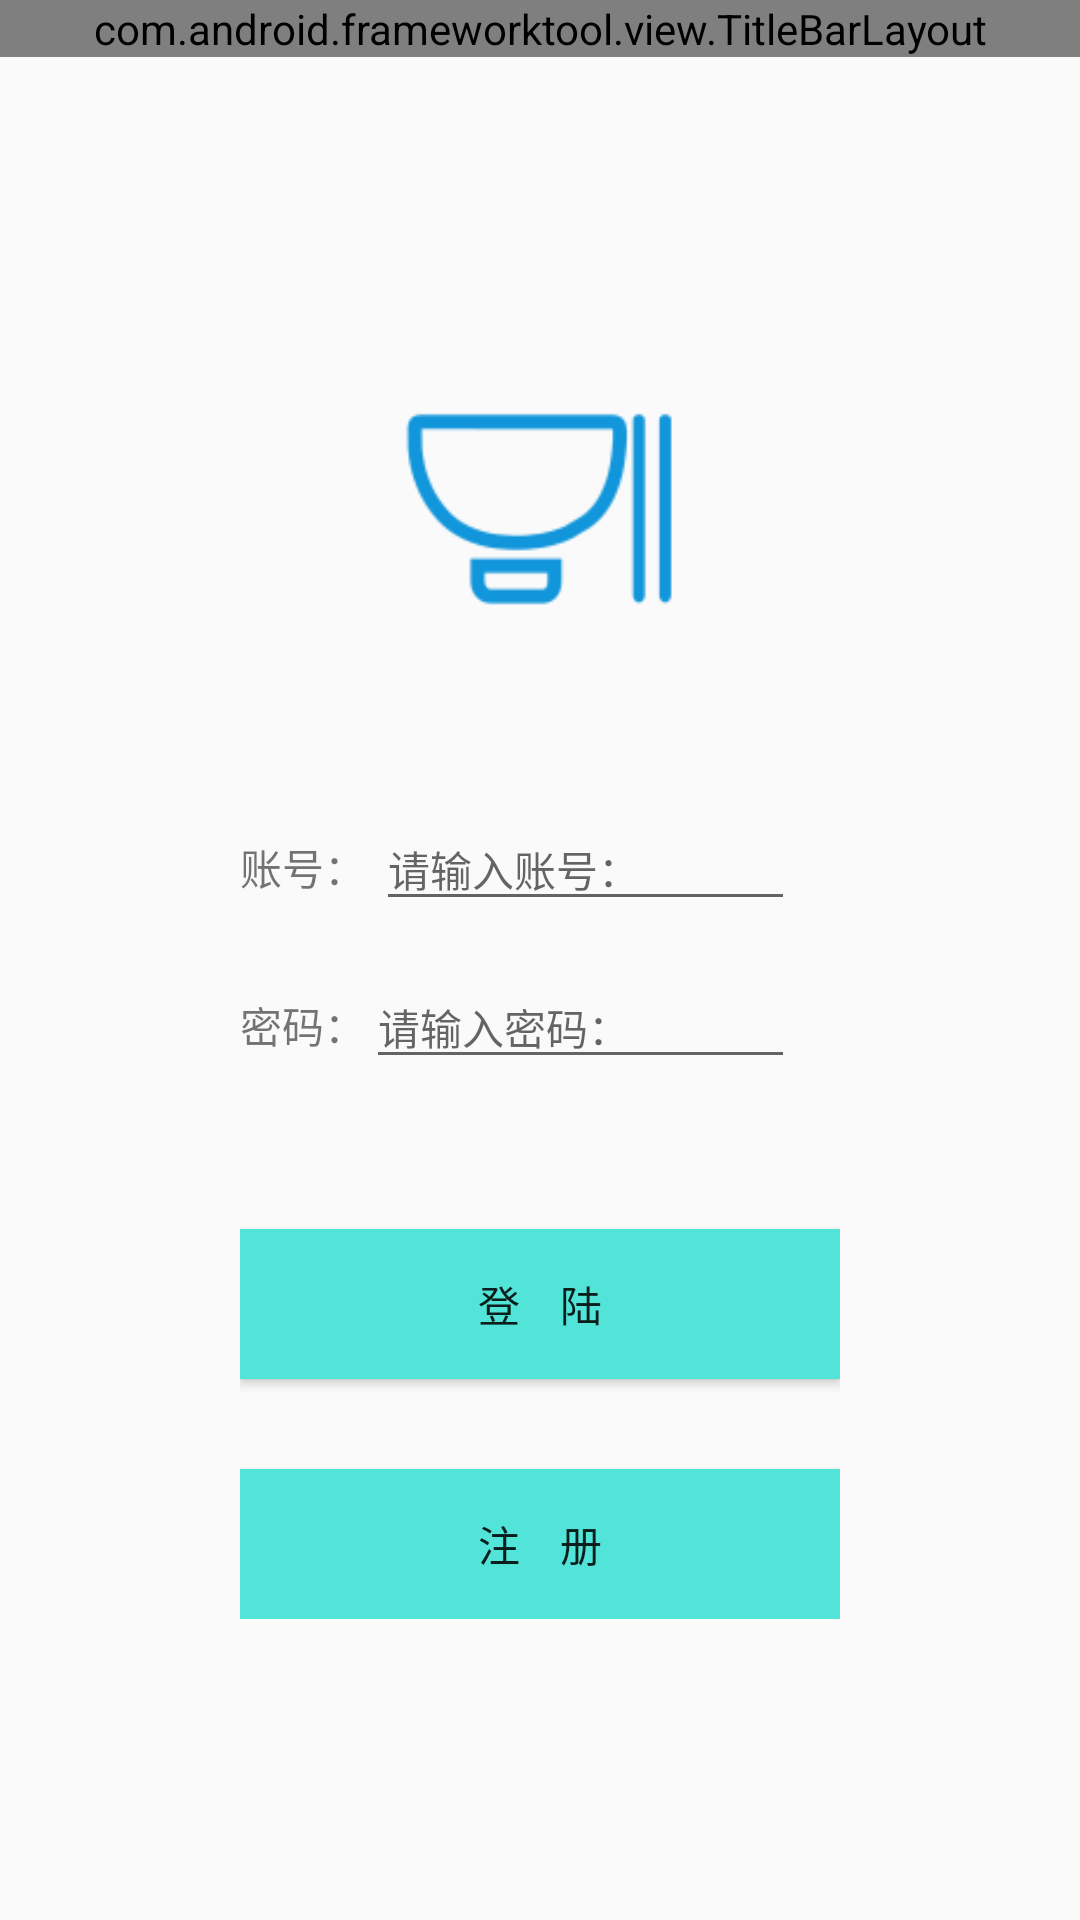

Screen size 1080×1920. Icon name, then its box in pixels as rect(x1, y1, x2, y2):
diancan: rect(406, 413, 672, 605)
